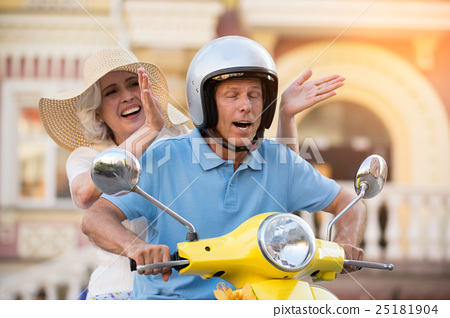helmet: (176, 40, 286, 140)
